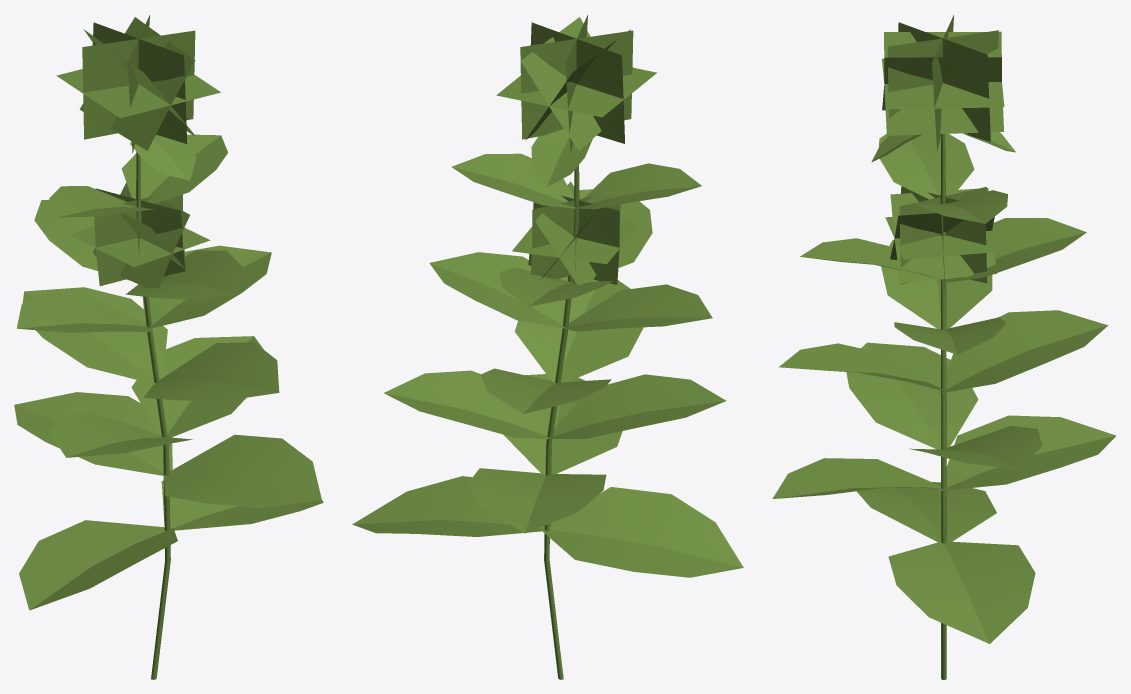
The model's file is Water_Mint_1.glb.
3 views of the same model, side by side, from view 1: azimuth 30°, elevation 25°; view 2: azimuth 150°, elevation 25°; view 3: azimuth 270°, elevation 25° (orthographic).
Parts seen in each view (by area): view 1: Water_Mint_1; view 2: Water_Mint_1; view 3: Water_Mint_1.
Boxes of the visible parts, x1,y1,x2,y2 form: Water_Mint_1: [14, 15, 323, 679]; Water_Mint_1: [352, 15, 743, 679]; Water_Mint_1: [772, 15, 1116, 679].
Size of the model in its own units: 0.0912 by 0.1653 by 0.0815.
